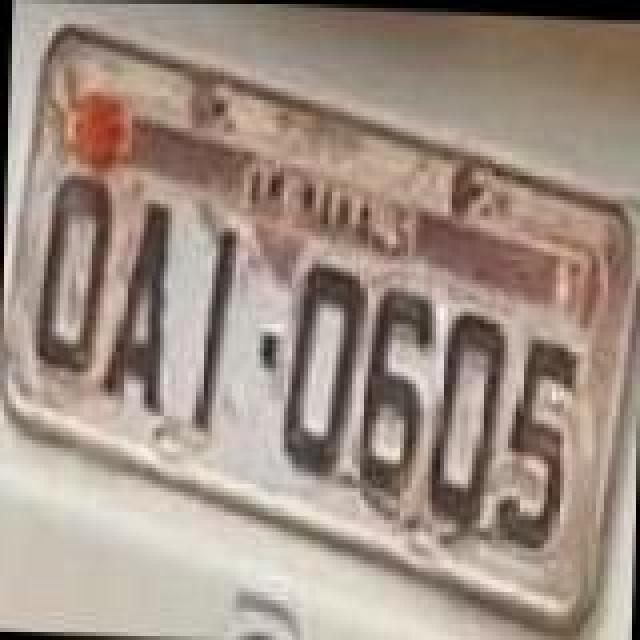1: (190, 224, 242, 428)
5: (492, 326, 580, 550)
6: (348, 282, 432, 498)
A: (100, 196, 172, 420)
O: (274, 260, 362, 476), (416, 306, 504, 522), (32, 170, 116, 374)
